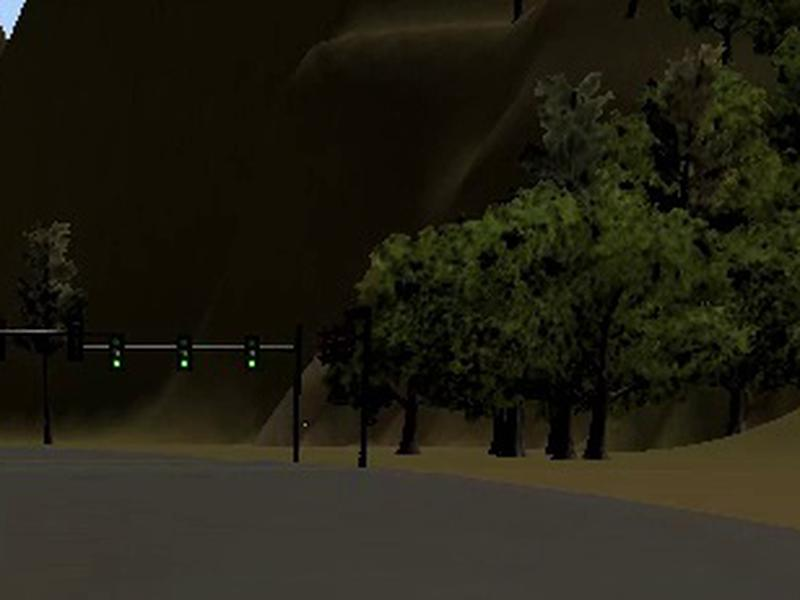Green: (244, 336, 261, 370), (177, 336, 192, 371), (108, 336, 122, 369)
